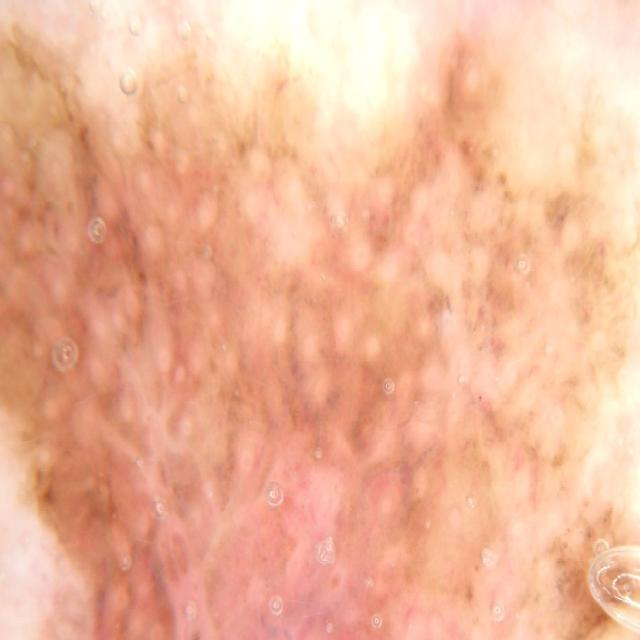Melanoma: (0, 49, 640, 640)
